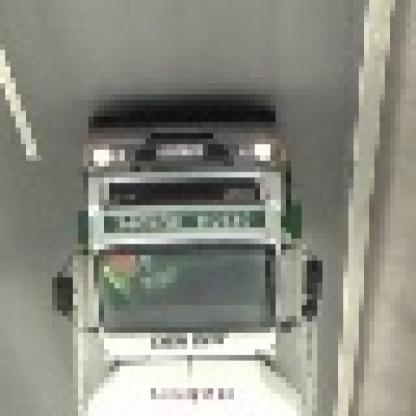truck: (48, 112, 323, 416)
